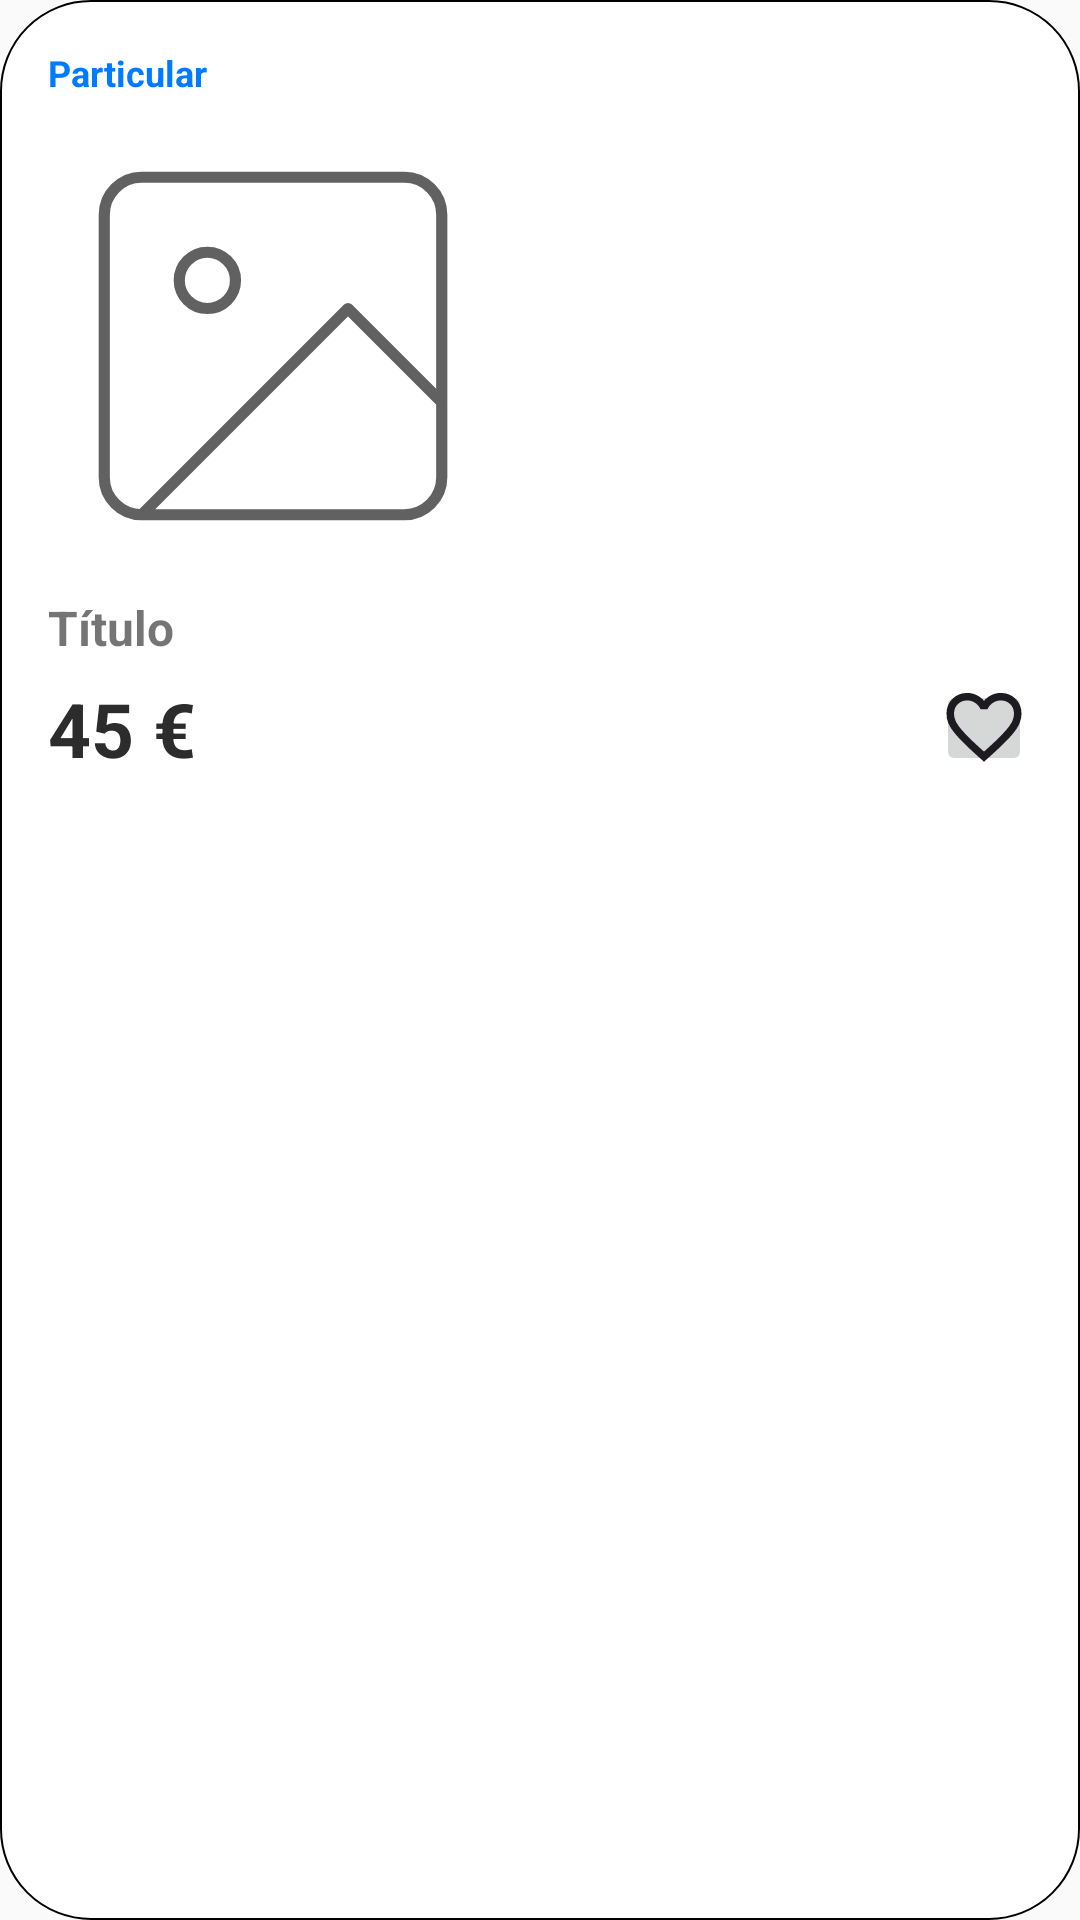

Where to tap for icons on this 1080w x 1920h app screen, as point (x, y):
like: point (984, 727)
